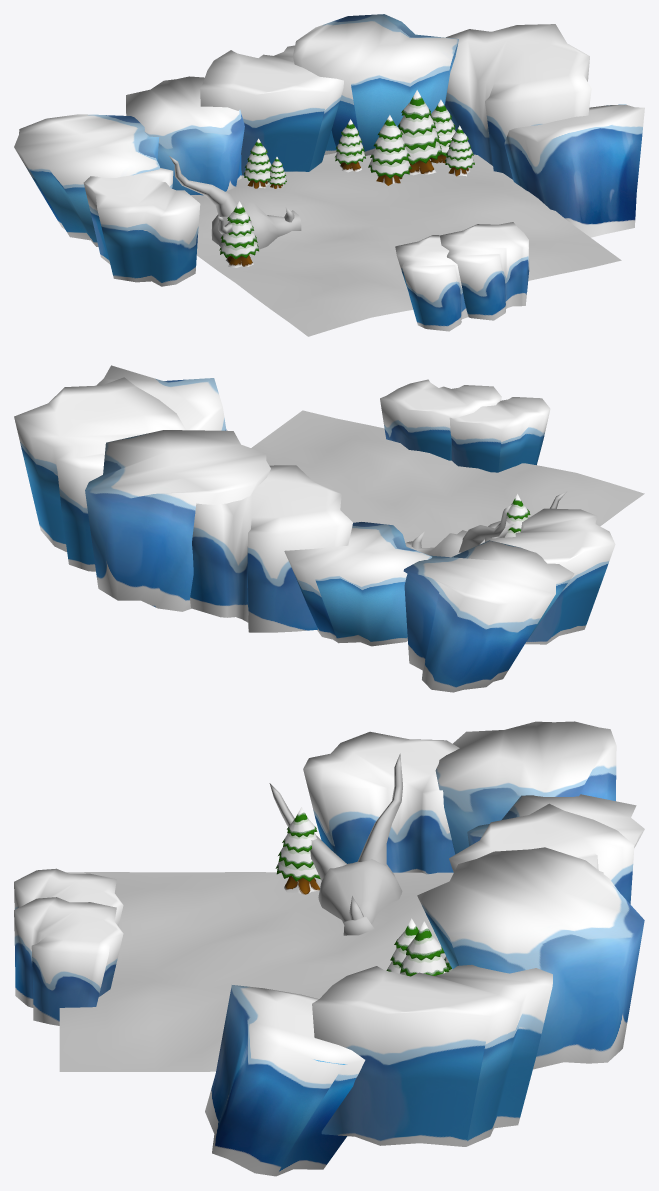
File: Map_1_A_5.FBX
3 renders of one model, top to bottom at view 1: azimuth 30°, elevation 25°; view 2: azimuth 150°, elevation 25°; view 3: azimuth 270°, elevation 25°, orthographic. The views are drawn at different scales.
Parts seen in each view (by area): view 1: tereno1, Iceberg027, Iceberg01, Iceberg016, Iceberg018, Iceberg026, Iceberg025, Iceberg019, Iceberg021, Iceberg022, Animal bones1, Three106 (+6 smaller); view 2: tereno1, Iceberg016, Iceberg025, Iceberg018, Iceberg027, Iceberg019, Iceberg026, Iceberg022, Iceberg021, Iceberg01, Animal bones1, Three101; view 3: tereno1, Iceberg027, Iceberg016, Iceberg01, Iceberg026, Iceberg025, Iceberg021, Animal bones1, Iceberg018, Iceberg022, Iceberg019, Three101 (+2 smaller).
Boxes of the visible parts, x1=… form: tereno1: x1=190, y1=153, x2=621, y2=336; Iceberg027: x1=445, y1=24, x2=591, y2=179; Iceberg01: x1=504, y1=104, x2=644, y2=237; Iceberg016: x1=293, y1=14, x2=458, y2=155; Iceberg018: x1=200, y1=45, x2=343, y2=175; Iceberg026: x1=83, y1=168, x2=200, y2=286; Iceberg025: x1=14, y1=114, x2=159, y2=246; Iceberg019: x1=126, y1=76, x2=244, y2=195; Iceberg021: x1=440, y1=222, x2=529, y2=320; Iceberg022: x1=395, y1=235, x2=468, y2=331; Animal bones1: x1=169, y1=156, x2=301, y2=249; Three106: x1=398, y1=90, x2=442, y2=175; tereno1: x1=251, y1=410, x2=644, y2=547; Iceberg016: x1=85, y1=430, x2=270, y2=611; Iceberg025: x1=403, y1=540, x2=574, y2=692; Iceberg018: x1=190, y1=465, x2=352, y2=632; Iceberg027: x1=14, y1=377, x2=185, y2=571; Iceberg019: x1=284, y1=522, x2=431, y2=646; Iceberg026: x1=485, y1=508, x2=615, y2=644; Iceberg022: x1=449, y1=397, x2=550, y2=472; Iceberg021: x1=380, y1=379, x2=501, y2=460; Iceberg01: x1=96, y1=365, x2=226, y2=430; Animal bones1: x1=405, y1=491, x2=567, y2=557; Three101: x1=504, y1=494, x2=530, y2=537; tereno1: x1=59, y1=872, x2=453, y2=1071; Iceberg027: x1=312, y1=964, x2=552, y2=1146; Iceberg016: x1=417, y1=847, x2=644, y2=1069; Iceberg01: x1=205, y1=985, x2=365, y2=1176; Iceberg026: x1=303, y1=731, x2=459, y2=874; Iceberg025: x1=435, y1=721, x2=616, y2=854; Iceberg021: x1=14, y1=897, x2=123, y2=1025; Animal bones1: x1=269, y1=753, x2=402, y2=935; Iceberg018: x1=449, y1=803, x2=634, y2=904; Iceberg022: x1=14, y1=868, x2=123, y2=926; Iceberg019: x1=467, y1=794, x2=644, y2=847; Three101: x1=275, y1=807, x2=320, y2=894.
Size of the model in its own units: 825 by 241 by 668.
